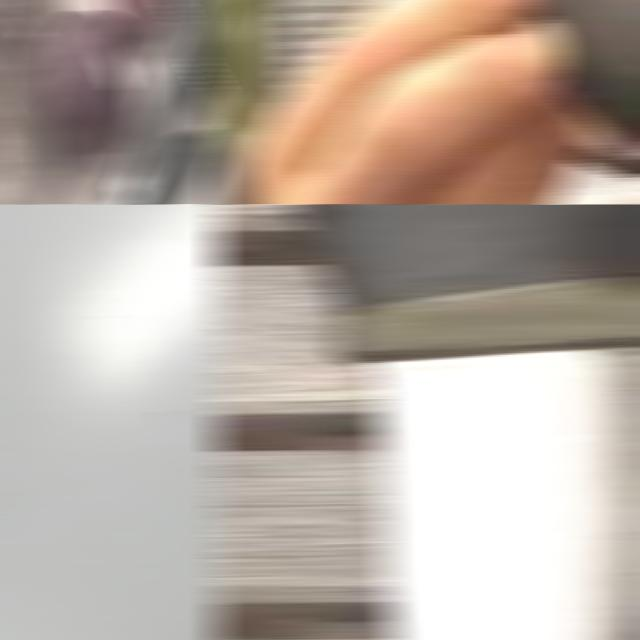Knife: (291, 204, 640, 640)
